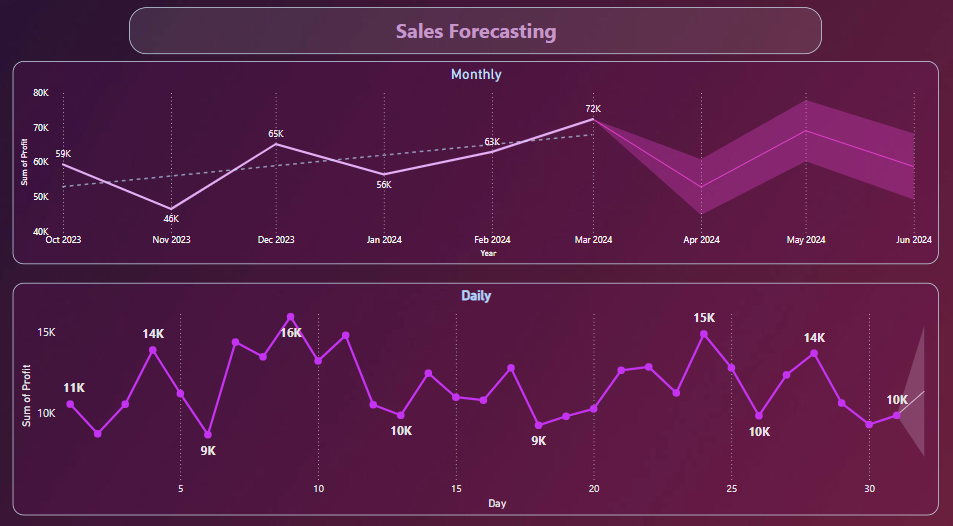

The page's visual inventory and layout, read from the dashboard file:
{"tool":"powerbi","page":{"name":"page 4","canvas":[1280,720],"ordinal":3},"visuals":[{"type":"lineChart","title":"Monthly ","fields":{"Category":["Sales_data.Date.Variation.Date Hierarchy.Year","Sales_data.Date.Variation.Date Hierarchy.Month"],"Y":["Sum(Sales_data.Profit)"]},"box":[21.2,88,1237.5,271.5],"z":0},{"type":"lineChart","title":"Daily ","fields":{"Category":["Sales_data.Date.Variation.Date Hierarchy.Year","Sales_data.Date.Variation.Date Hierarchy.Day"],"Y":["Sum(Sales_data.Profit)"]},"box":[21.2,385.2,1237.5,310.9],"z":2000},{"type":"textbox","box":[177.1,17.1,925.7,62.9],"z":3000}]}

Visuals, with their boxes in screenshot pixels (x1, y1, x2, y2), scaled from the page's 1280x720 canvas onto the 953x526 screenshot:
"Monthly " lineChart: [16,64,937,263]
"Daily " lineChart: [16,281,937,509]
textbox: [132,12,821,58]
